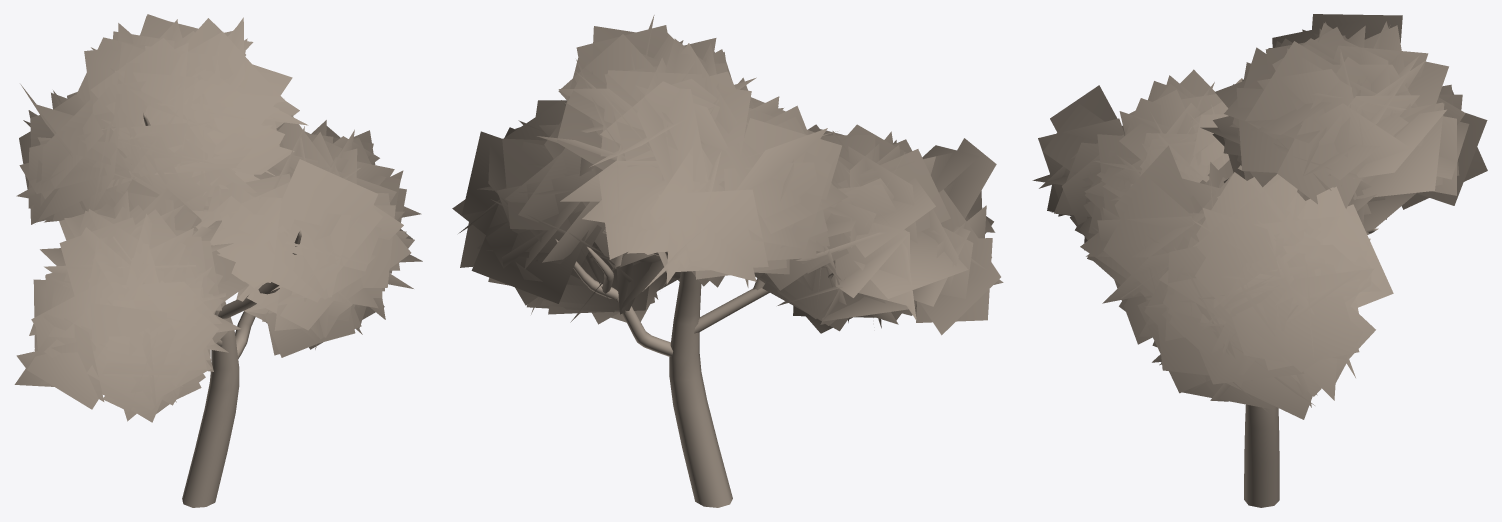
The model's file is NormalTree_5.glb.
The picture shows the model from 3 angles, left to right: view 1: azimuth 30°, elevation 25°; view 2: azimuth 150°, elevation 25°; view 3: azimuth 270°, elevation 25°; orthographic projection. The views are drawn at different scales.
Parts seen in each view (by area): view 1: NormalTree_Leaves, NormalTree_Bark; view 2: NormalTree_Leaves, NormalTree_Bark; view 3: NormalTree_Leaves, NormalTree_Bark.
Part boxes in pixels (x1,y1,x2,y2): NormalTree_Leaves: (14,14,422,422); NormalTree_Bark: (143,112,301,507); NormalTree_Leaves: (452,15,1003,335); NormalTree_Bark: (555,230,833,507); NormalTree_Leaves: (1032,14,1487,419); NormalTree_Bark: (1244,228,1378,507).
Size of the model in its own units: 3.1 by 2.98 by 2.57.
